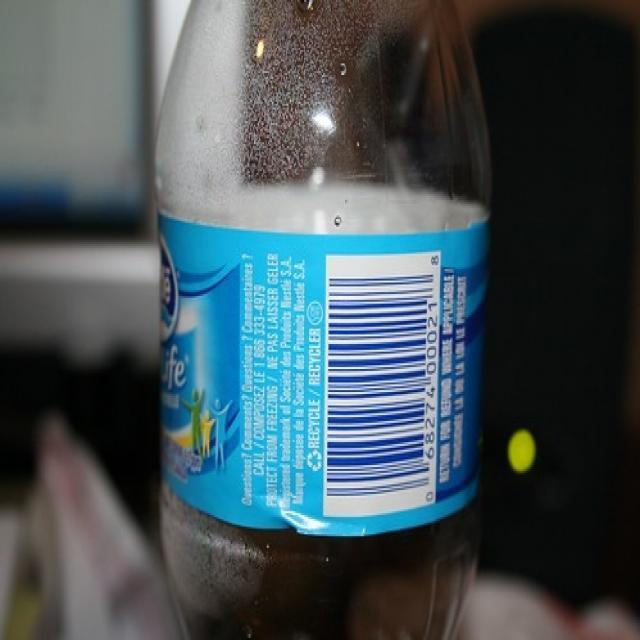plastic_bottle: (154, 0, 495, 640)
